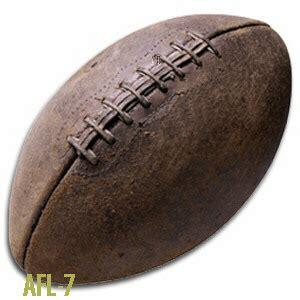Rugby: (6, 13, 293, 288)
